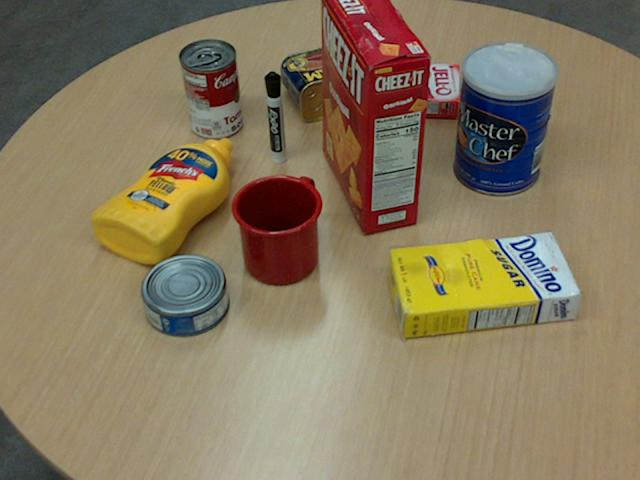cracker_box: (321, 0, 429, 231)
gelatin_box: (399, 61, 458, 117)
large_marker: (264, 71, 284, 163)
master_chef_can: (452, 42, 556, 196)
mug: (229, 174, 321, 284)
mustard_bottle: (90, 137, 232, 262)
potted_meat_can: (280, 42, 375, 121)
sugar_box: (385, 232, 581, 340)
tomato_soup_can: (179, 37, 241, 137)
tuna_fish_can: (139, 254, 228, 336)
